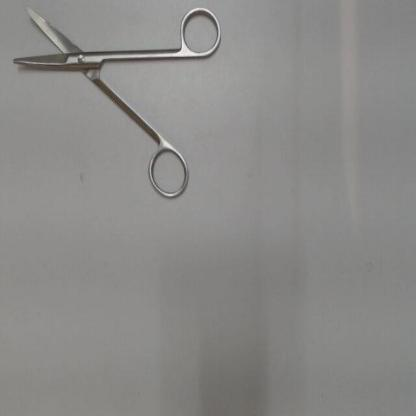Curved Mayo Scissors: (6, 3, 228, 206)
